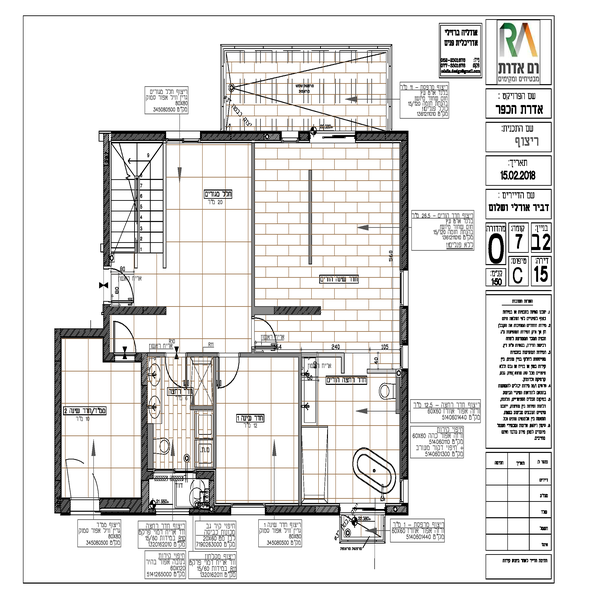door: (165, 354, 195, 399), (104, 266, 137, 303), (112, 320, 137, 365), (253, 314, 282, 351), (218, 354, 245, 393)
room: (251, 128, 410, 320), (102, 131, 257, 318), (54, 328, 152, 519), (298, 351, 410, 515), (215, 351, 305, 515), (141, 352, 217, 512)
wall: (400, 147, 411, 269), (56, 327, 63, 509), (102, 144, 112, 267), (201, 130, 281, 145), (142, 355, 149, 515), (211, 358, 217, 504), (264, 503, 342, 514), (252, 304, 322, 315), (357, 127, 408, 141), (237, 351, 343, 357), (190, 502, 233, 516), (106, 132, 167, 141), (104, 306, 165, 315), (61, 328, 104, 340)
window: (235, 501, 268, 516), (167, 132, 203, 145), (401, 270, 409, 305), (400, 482, 409, 504), (402, 345, 408, 365)
